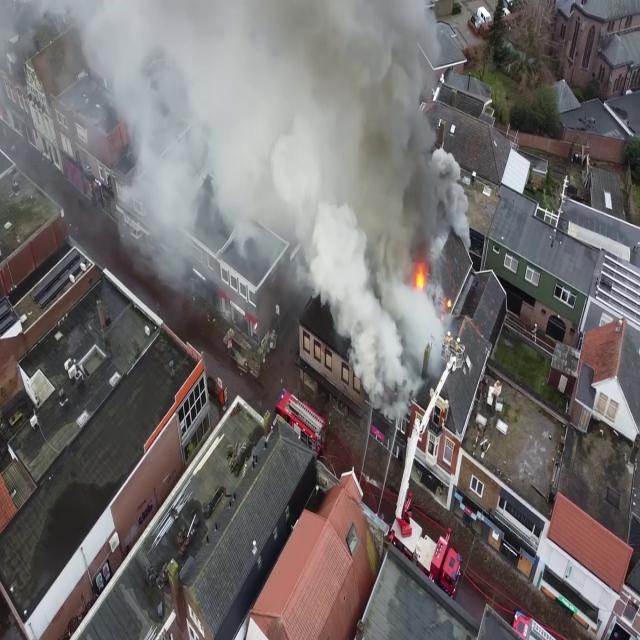Fire: (410, 254, 430, 298)
Smoke: (51, 0, 458, 284), (306, 196, 474, 430)
